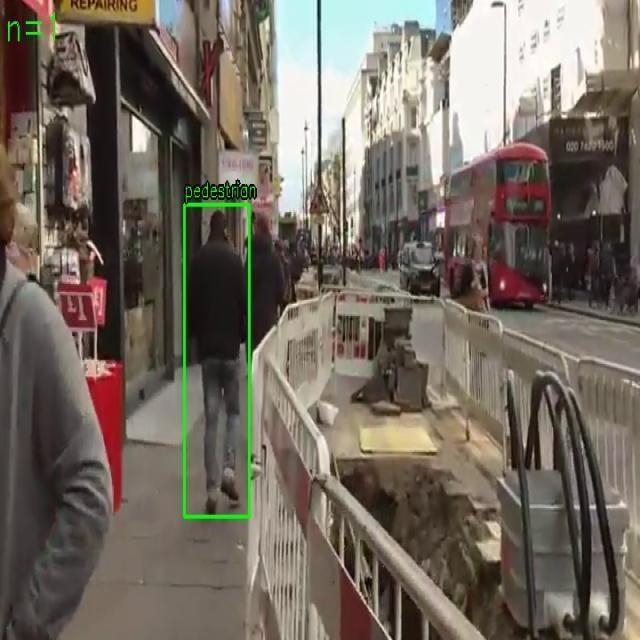person: (184, 203, 250, 518)
